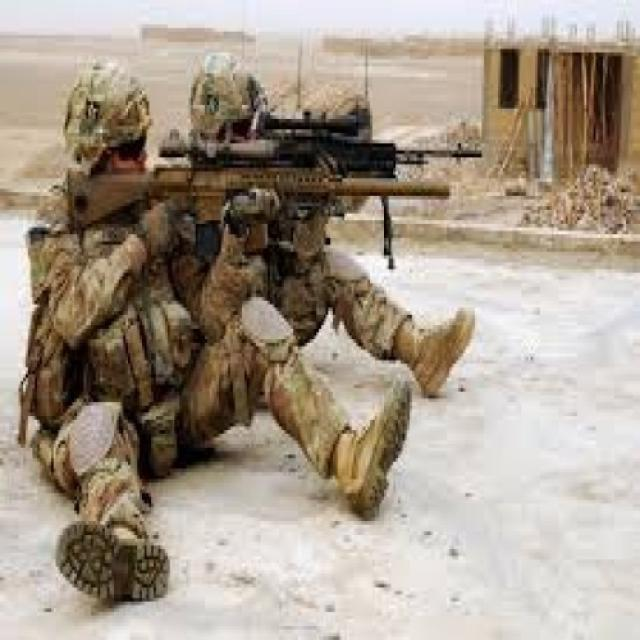Gun: (62, 120, 484, 300)
